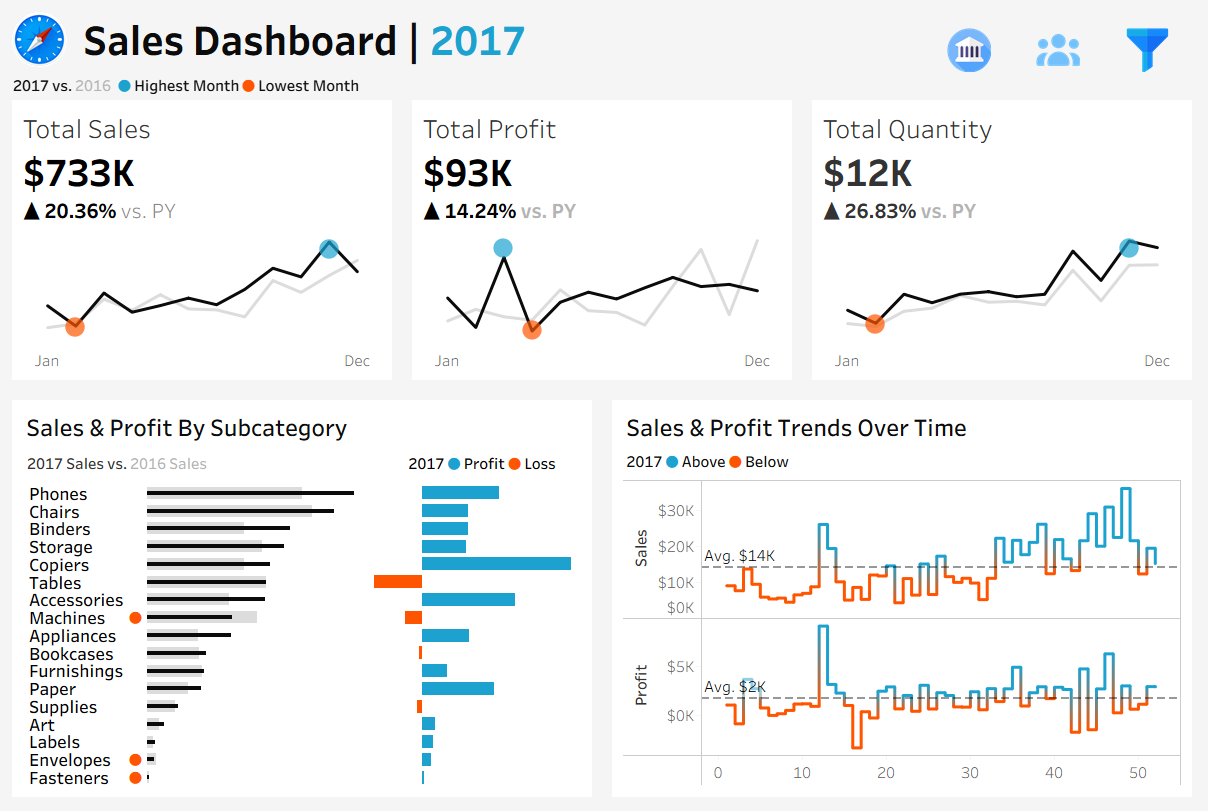

The dashboard page shown, as its layout file describes it:
{"tool":"tableau","page":{"name":"Sales Dashboard","canvas":[1200,800],"ordinal":1},"visuals":[{"type":"image","param":"Image/Icon - Logo.png","box":[0,0,74,64]},{"type":"text","box":[74,0,1126,64]},{"type":"dashboard-object","box":[923,17,89,52]},{"type":"dashboard-object","box":[1012,17,89,52]},{"type":"dashboard-object","box":[1101,17,88,52]},{"type":"worksheet","title":"Legend KPI","mark":"Automatic","box":[0,64,1200,29]},{"type":"worksheet","title":"KPI Sales","mark":"Automatic","rows":["Calculation_0677057372164103"],"cols":["Order Date"],"box":[0,93,400,290]},{"type":"worksheet","title":"KPI Profit","mark":"Automatic","rows":["Calculation_0677057386008589"],"cols":["Order Date"],"box":[400,93,400,290]},{"type":"worksheet","title":"KPI Quantity","mark":"Automatic","rows":["Calculation_0705644696907782"],"cols":["Order Date"],"box":[800,93,400,290]},{"type":"text","box":[1002,102,188,40]},{"type":"parameter","param":"[Parameters].[Parameter 0677057360883715]","box":[1002,142,188,56]},{"type":"blank","box":[1002,198,188,47]},{"type":"text","box":[1002,245,188,33]},{"type":"filter","title":"KPI Sales","param":"[federated.03lqwms1da99tl13jp2m616k03if].[none:Category:nk]","box":[1002,278,188,61]},{"type":"filter","title":"KPI Sales","param":"[federated.03lqwms1da99tl13jp2m616k03if].[none:Sub-Category:nk]","box":[1002,339,188,61]},{"type":"text","box":[17,400,566,40]},{"type":"text","box":[617,400,566,40]},{"type":"blank","box":[1002,400,188,47]},{"type":"worksheet","title":"Legend SubCategory","mark":"Automatic","box":[17,440,382,33]},{"type":"text","box":[399,440,184,33]},{"type":"text","box":[617,440,566,29]},{"type":"text","box":[1002,447,188,33]},{"type":"worksheet","title":"Weekly Trends","mark":"Automatic","rows":["Calculation_0677057360502785","Calculation_0677057378828298"],"cols":["Order Date"],"box":[617,469,566,314]},{"type":"worksheet","title":"Subcategory Comparison","mark":"Bar","rows":["Sub-Category","Calculation_0668261501726720"],"cols":["Calculation_0677057360748546","Calculation_0677057360502785","Calculation_0677057378828298"],"box":[17,473,566,309.9]},{"type":"filter","title":"KPI Sales","param":"[federated.03lqwms1da99tl13jp2m616k03if].[none:Region:nk]","box":[1002,480,188,61]},{"type":"filter","title":"KPI Sales","param":"[federated.03lqwms1da99tl13jp2m616k03if].[none:State:nk]","box":[1002,541,188,61]},{"type":"filter","title":"KPI Sales","param":"[federated.03lqwms1da99tl13jp2m616k03if].[none:City:nk]","box":[1002,602,188,61]}]}

Visuals, with their boxes in screenshot pixels (x1, y1, x2, y2), scaled from the page's 1200x800 canvas onto the 1208x811 screenshot:
image: 0/0/74/65
text: 74/0/1207/65
dashboard-object: 929/17/1019/70
dashboard-object: 1019/17/1108/70
dashboard-object: 1108/17/1197/70
"Legend KPI" worksheet: 0/65/1207/94
"KPI Sales" worksheet: 0/94/403/388
"KPI Profit" worksheet: 403/94/805/388
"KPI Quantity" worksheet: 805/94/1207/388
text: 1009/103/1198/144
parameter: 1009/144/1198/201
blank: 1009/201/1198/248
text: 1009/248/1198/282
"KPI Sales" filter: 1009/282/1198/344
"KPI Sales" filter: 1009/344/1198/406
text: 17/406/587/446
text: 621/406/1191/446
blank: 1009/406/1198/453
"Legend SubCategory" worksheet: 17/446/402/480
text: 402/446/587/480
text: 621/446/1191/475
text: 1009/453/1198/487
"Weekly Trends" worksheet: 621/475/1191/794
"Subcategory Comparison" worksheet (Bar marks): 17/480/587/794
"KPI Sales" filter: 1009/487/1198/548
"KPI Sales" filter: 1009/548/1198/610
"KPI Sales" filter: 1009/610/1198/672
